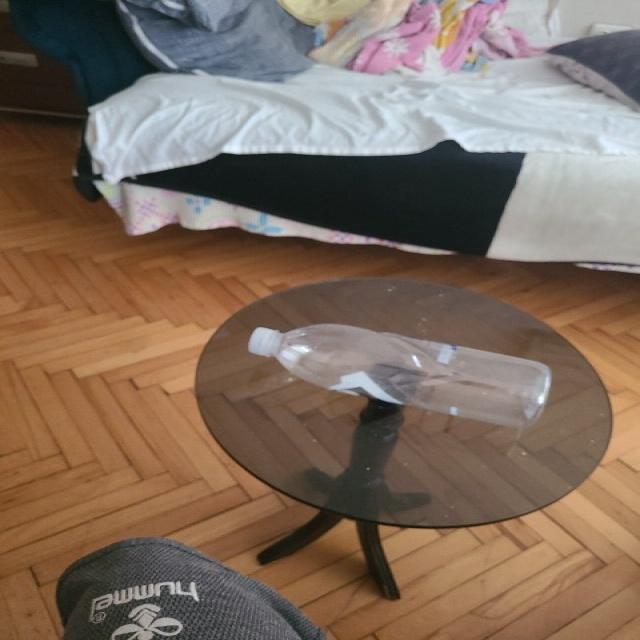plastic_bottle: (248, 324, 552, 429)
